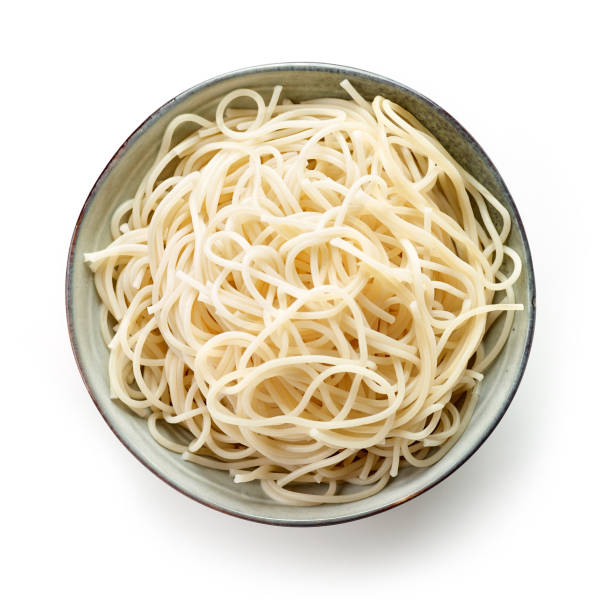plain spaghetti: (103, 122, 497, 485)
